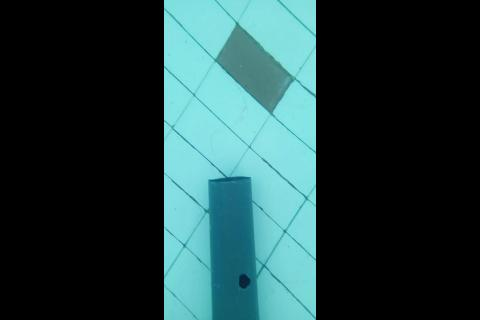kebocoran: (237, 272, 251, 290)
